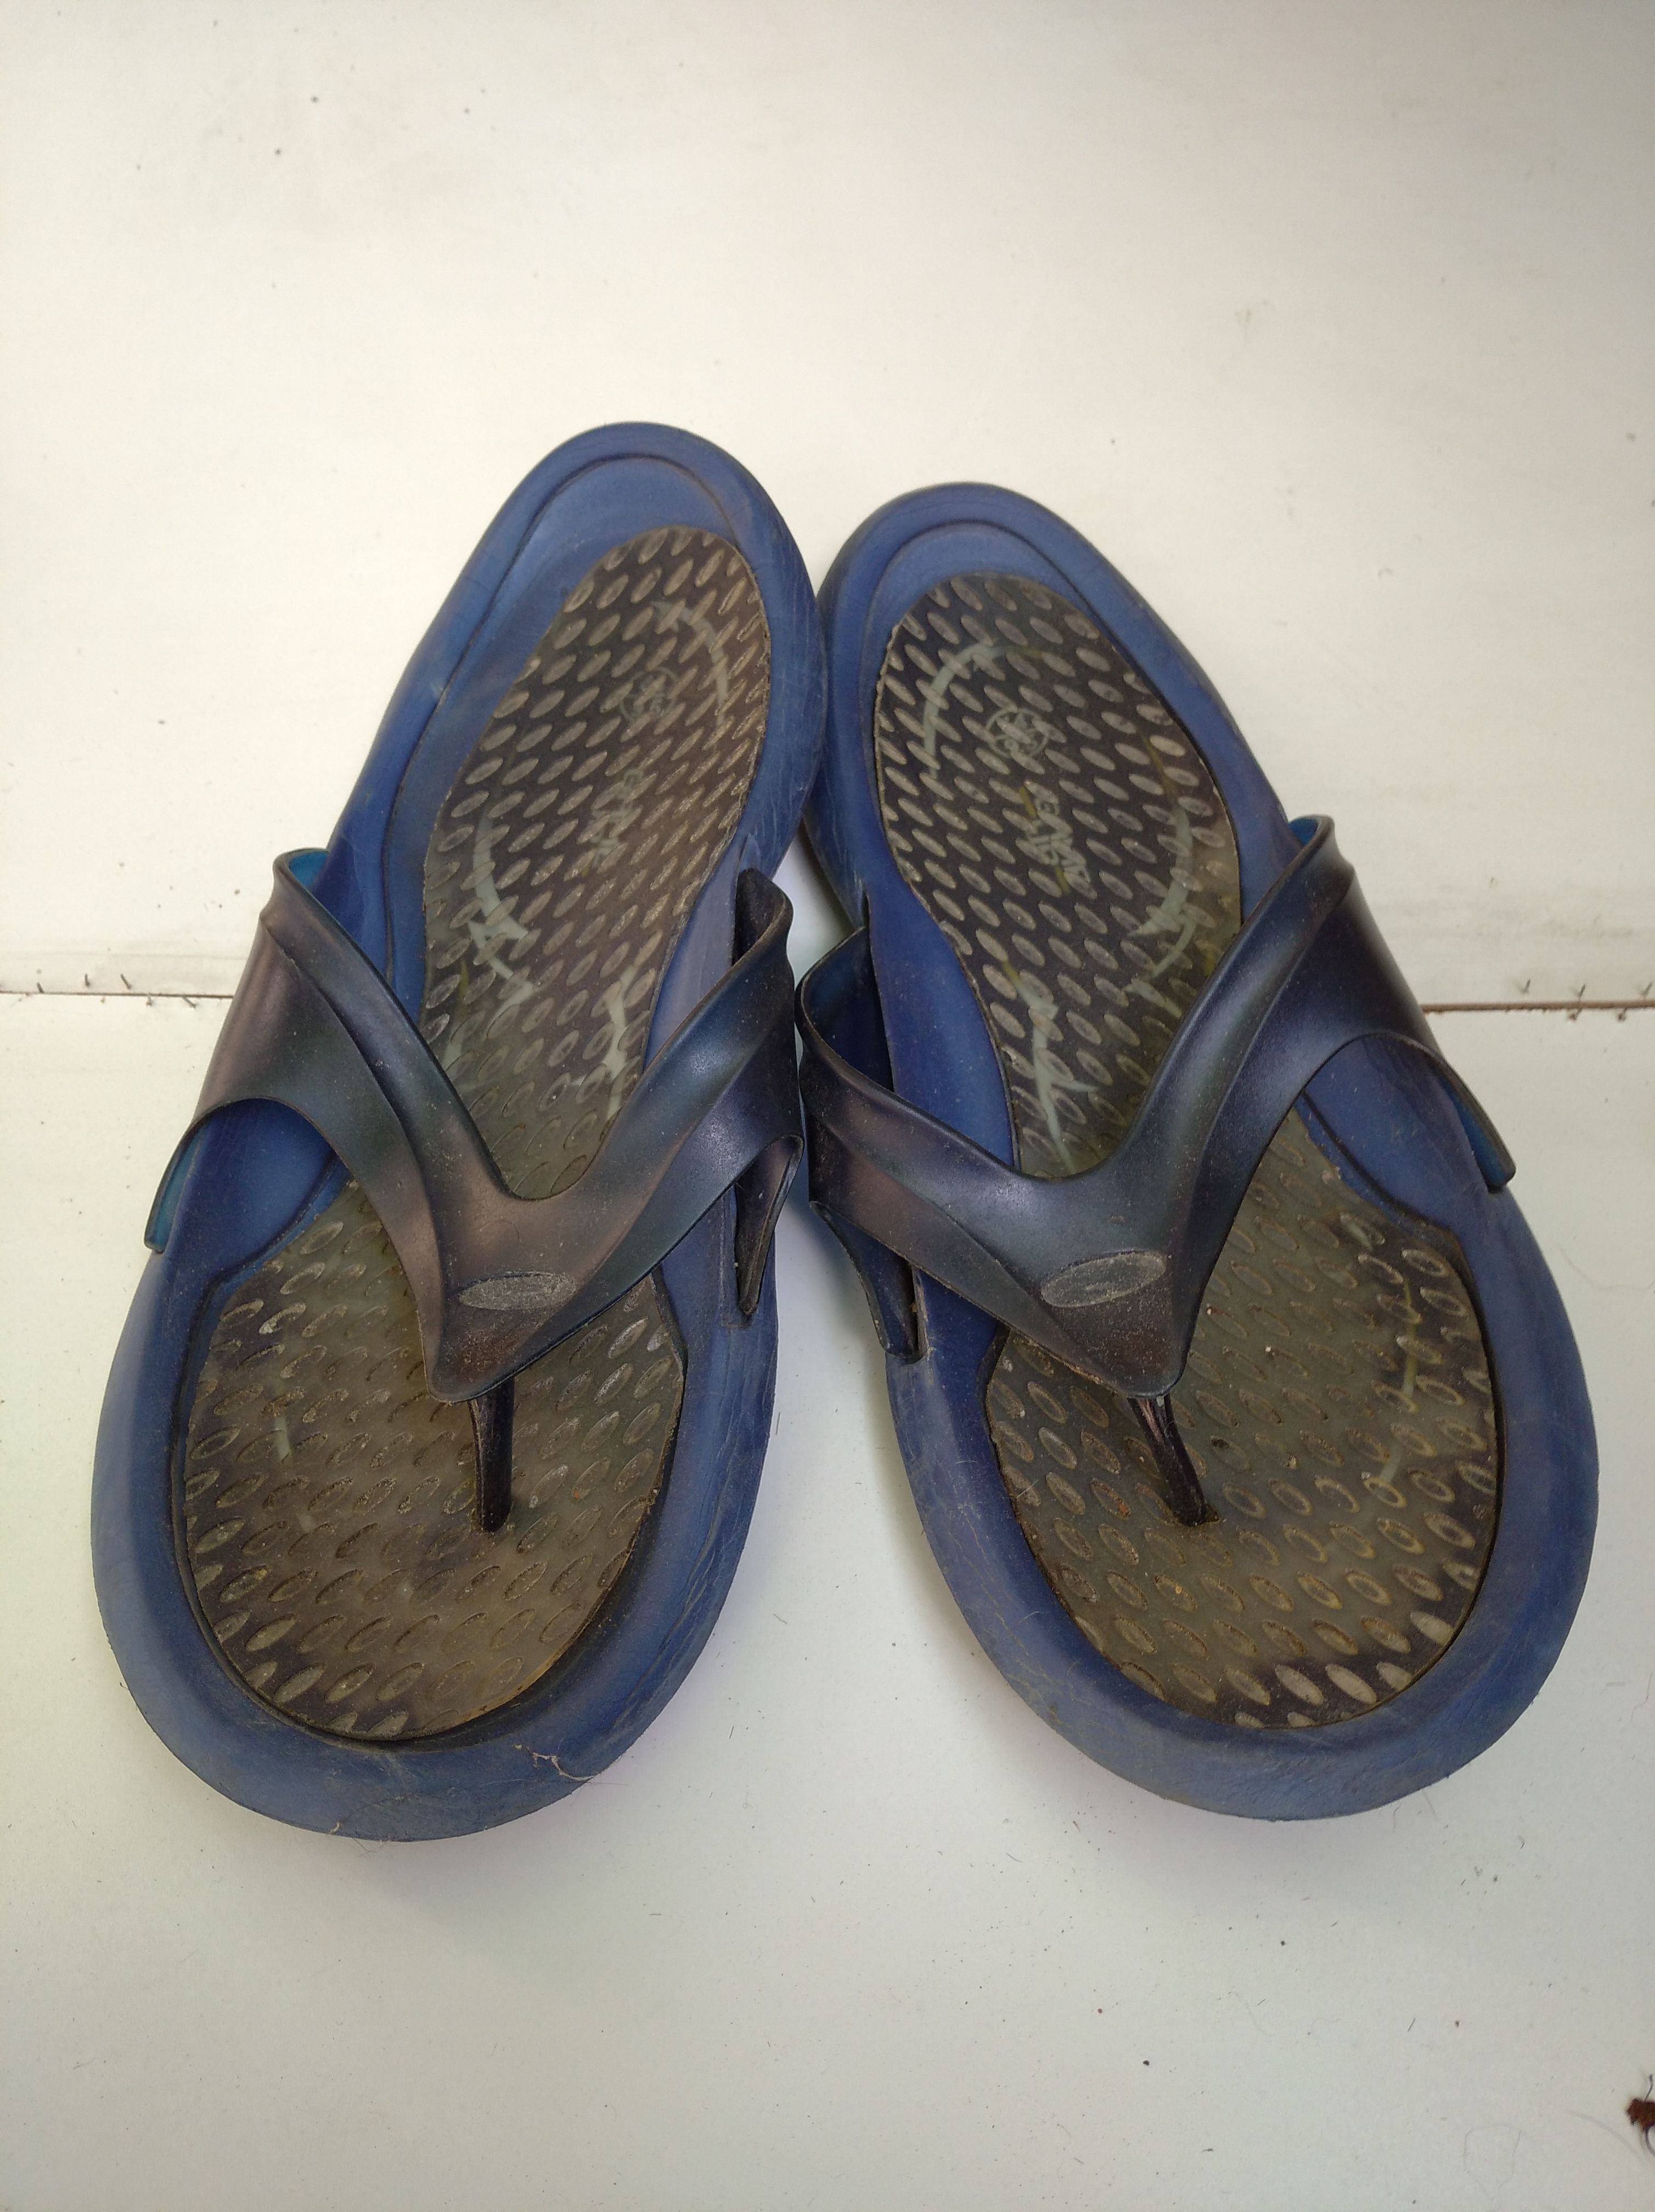clothes: (63, 426, 1612, 1858)
